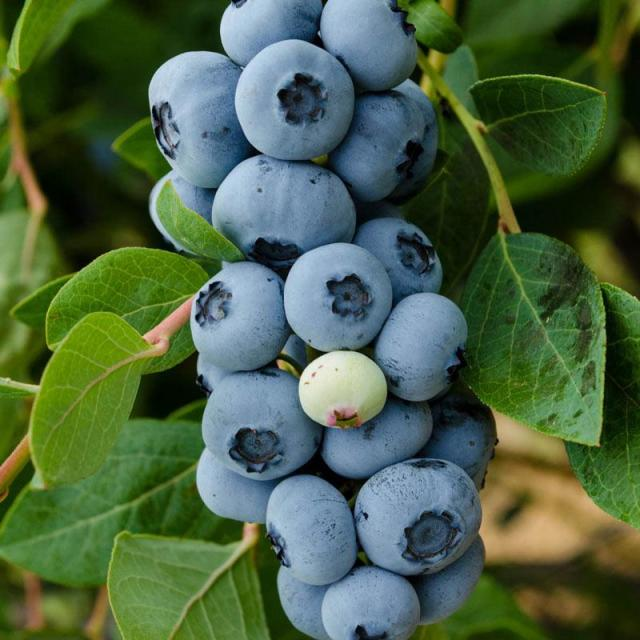BlueBerry - v1: (202, 147, 364, 271), (343, 451, 491, 582), (142, 44, 266, 192), (230, 33, 360, 162), (190, 366, 330, 482), (273, 236, 405, 356), (181, 254, 304, 374), (324, 82, 434, 206), (262, 468, 371, 588), (374, 282, 476, 409), (315, 389, 444, 482), (320, 0, 436, 92), (292, 342, 398, 442), (184, 438, 290, 538), (410, 386, 506, 494), (305, 557, 428, 640), (354, 213, 453, 306), (404, 522, 494, 624), (214, 0, 336, 73), (262, 558, 352, 640)
